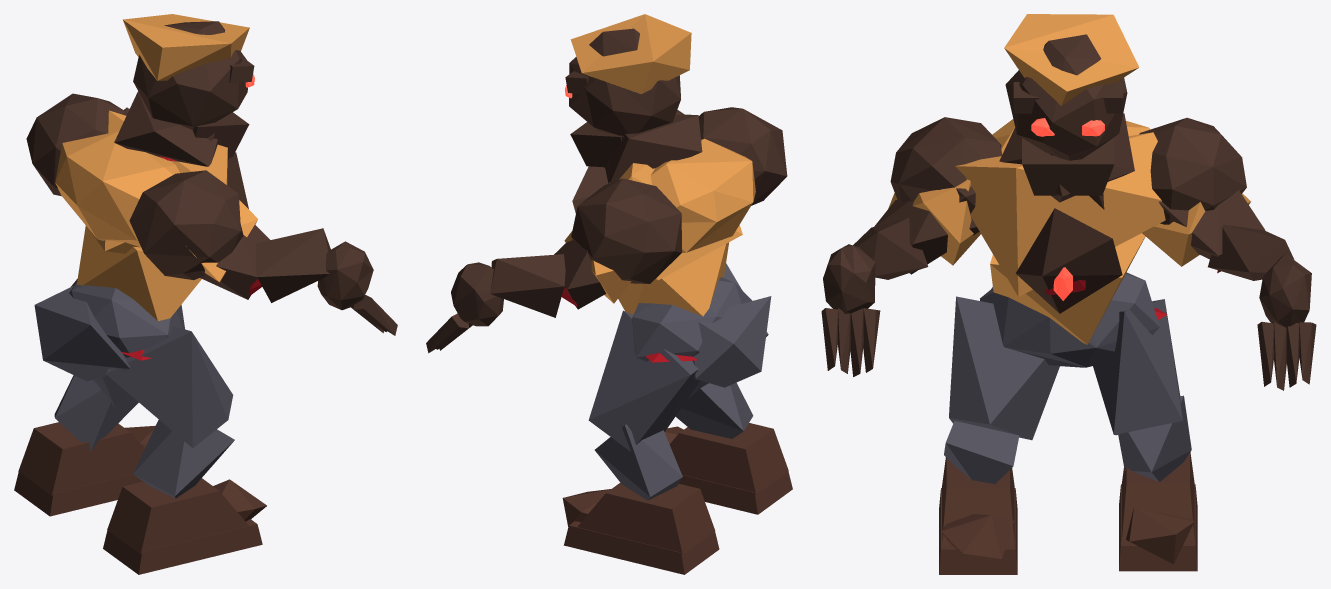
The picture shows the model from 3 angles, left to right: view 1: azimuth 30°, elevation 25°; view 2: azimuth 150°, elevation 25°; view 3: azimuth 270°, elevation 25°; orthographic projection. The views are drawn at different scales.
Parts seen in each view (by area): view 1: torso__alpha, head__alpha, armR__alpha, footR__alpha, hip__alpha, footL__alpha, legR__alpha, armL__alpha, shinR__alpha, foreArmR__alpha, handR__alpha, shinL__alpha (+1 smaller); view 2: torso__alpha, head__alpha, armL__alpha, footL__alpha, hip__alpha, footR__alpha, legL__alpha, armR__alpha, shinL__alpha, foreArmL__alpha, handL__alpha, shinR__alpha; view 3: torso__alpha, head__alpha, armL__alpha, armR__alpha, legR__alpha, footL__alpha, footR__alpha, legL__alpha, hip__alpha, handR__alpha, handL__alpha, shinR__alpha (+3 smaller).
Boxes of the visible parts, <box> form: torso__alpha: <box>55,91,248,320</box>; head__alpha: <box>123,14,254,157</box>; armR__alpha: <box>129,170,270,299</box>; footR__alpha: <box>103,478,266,574</box>; hip__alpha: <box>34,279,185,381</box>; footL__alpha: <box>14,422,155,516</box>; legR__alpha: <box>106,326,233,448</box>; armL__alpha: <box>26,93,127,196</box>; shinR__alpha: <box>133,419,234,498</box>; foreArmR__alpha: <box>255,228,330,302</box>; handR__alpha: <box>317,241,397,335</box>; shinL__alpha: <box>54,375,138,451</box>; torso__alpha: <box>572,114,755,316</box>; head__alpha: <box>565,14,691,183</box>; armL__alpha: <box>554,178,681,309</box>; footL__alpha: <box>562,482,719,574</box>; hip__alpha: <box>632,277,771,387</box>; footR__alpha: <box>664,423,792,514</box>; legL__alpha: <box>588,310,700,451</box>; armR__alpha: <box>698,107,787,205</box>; shinL__alpha: <box>594,424,682,500</box>; foreArmL__alpha: <box>490,254,565,317</box>; handL__alpha: <box>426,262,503,353</box>; shinR__alpha: <box>675,382,753,438</box>; torso__alpha: <box>955,113,1165,344</box>; head__alpha: <box>1004,14,1139,209</box>; armL__alpha: <box>1139,117,1265,266</box>; armR__alpha: <box>874,117,1001,274</box>; legR__alpha: <box>949,296,1059,440</box>; footL__alpha: <box>1119,452,1197,571</box>; footR__alpha: <box>939,457,1017,574</box>; legL__alpha: <box>1093,299,1184,435</box>; hip__alpha: <box>980,272,1159,367</box>; handR__alpha: <box>821,244,880,376</box>; handL__alpha: <box>1257,253,1316,390</box>; shinR__alpha: <box>944,420,1019,484</box>.
Bounding box in the file's own units: 1.22 × 2.3 × 1.95.
